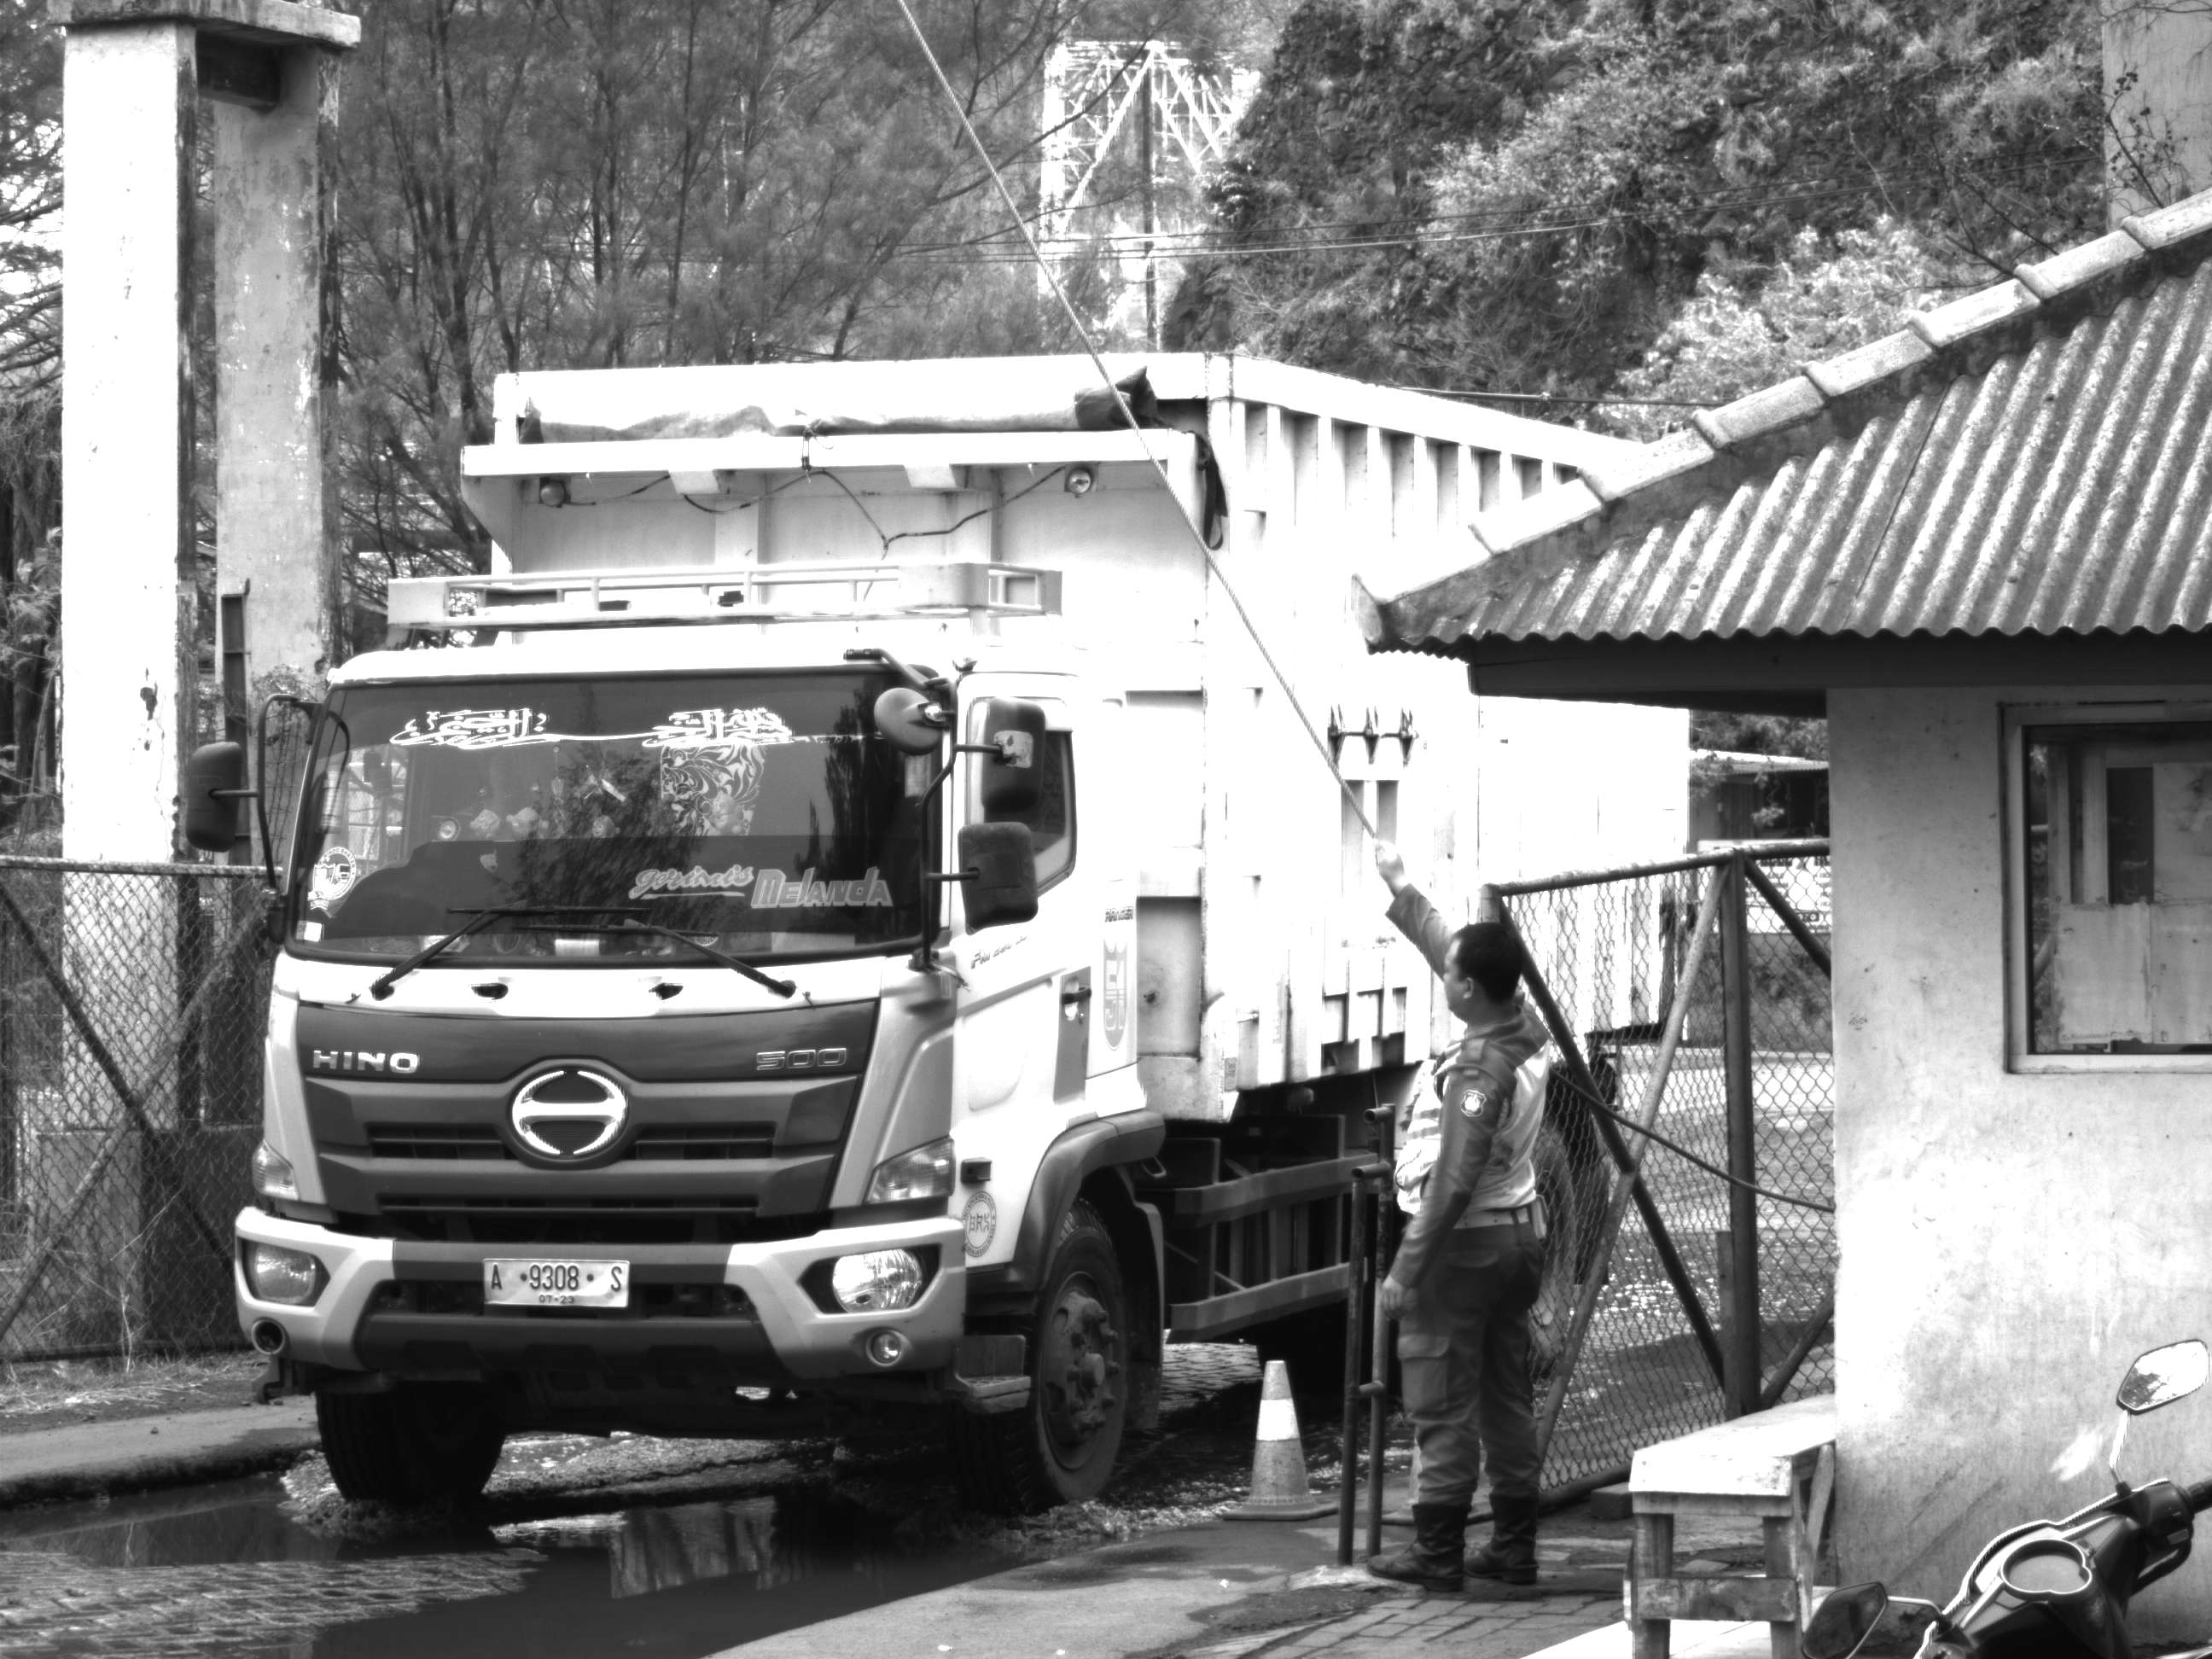day_truck_front: (237, 542, 1168, 1541)
plate: (477, 1252, 638, 1314)
